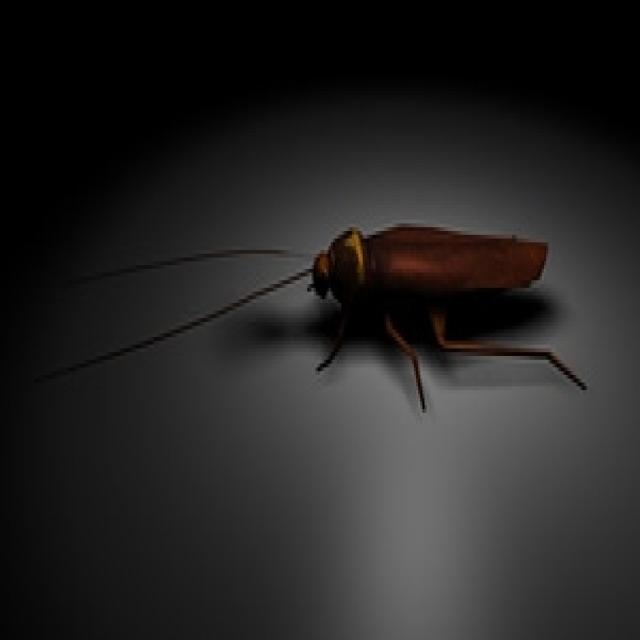Cockroach: (55, 194, 605, 436)
